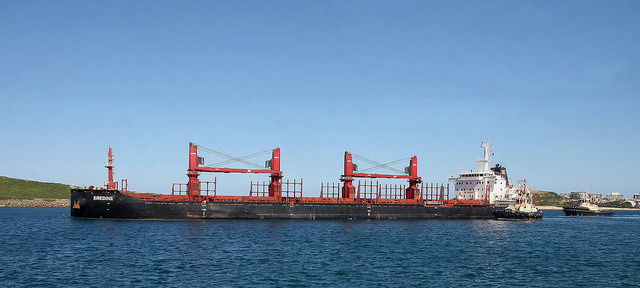bulk carrier: (70, 141, 515, 221)
tug_boat: (500, 183, 543, 222), (564, 187, 619, 215)
